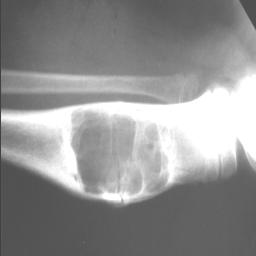cancer: (68, 103, 169, 194)
